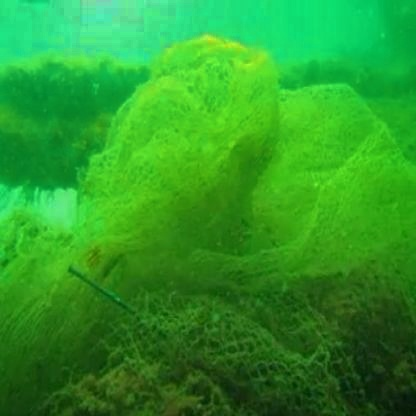net: (80, 26, 410, 340)
